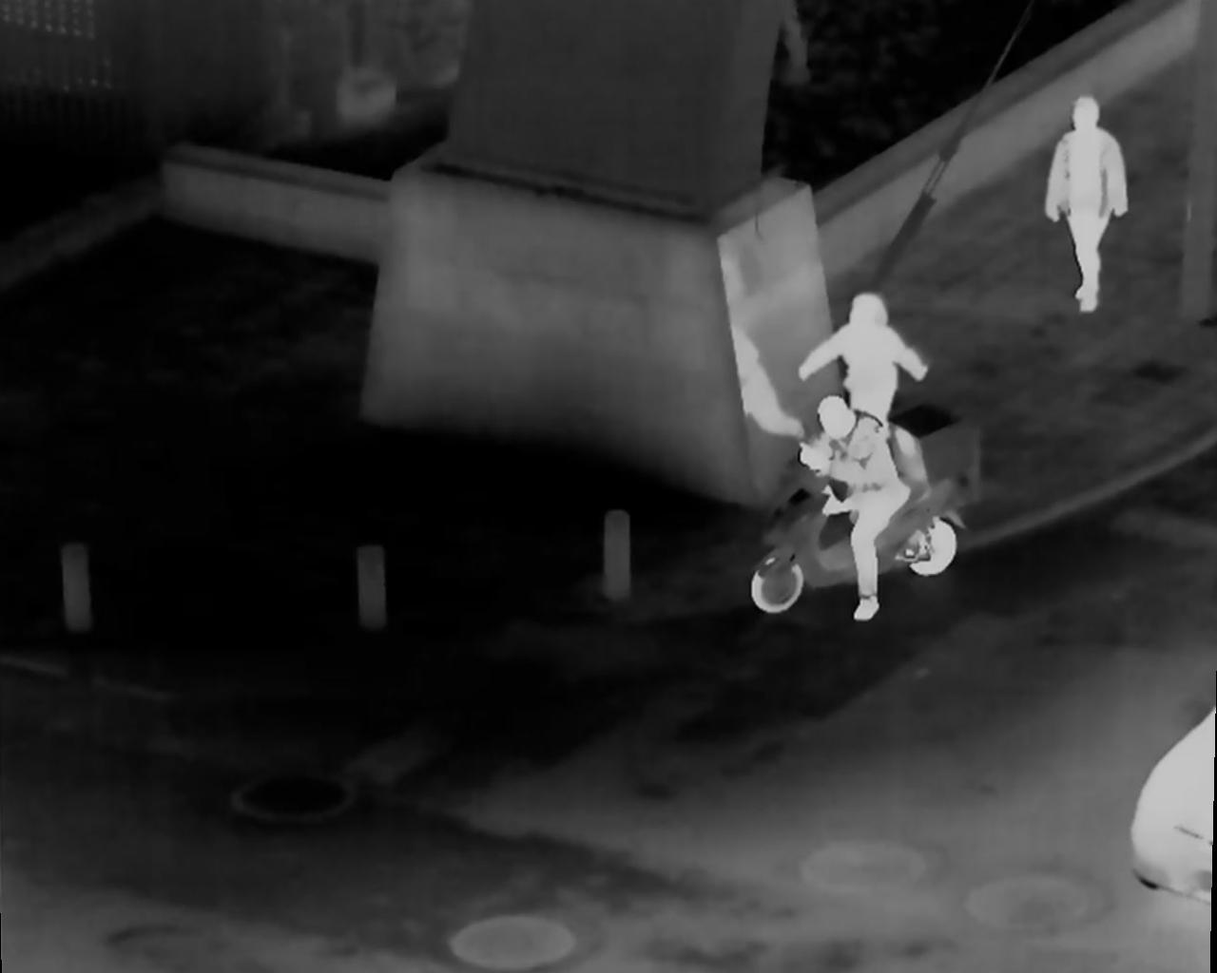person: (1040, 91, 1130, 318), (812, 401, 908, 607), (795, 286, 925, 435)
